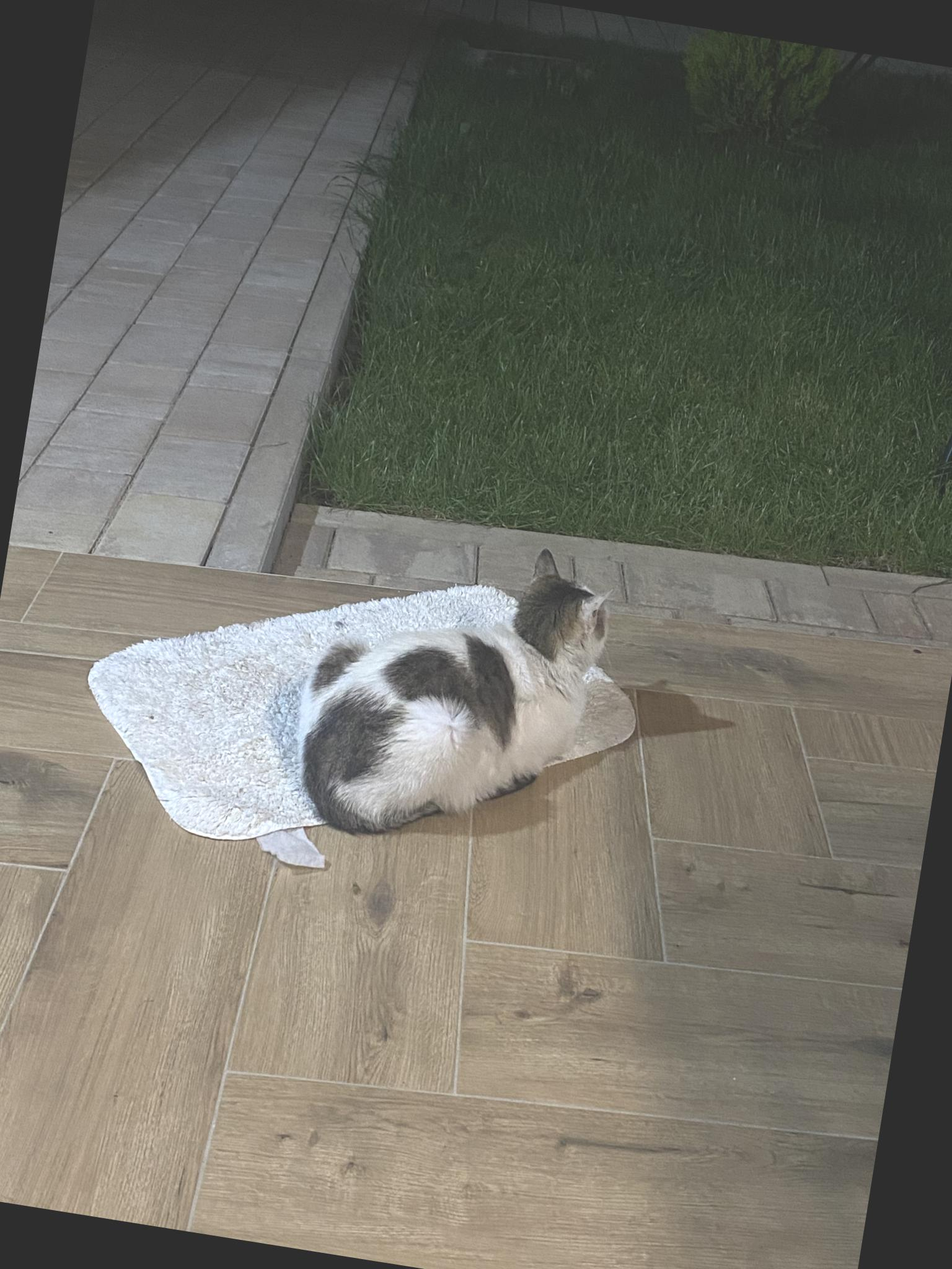macka: (283, 512, 622, 869)
